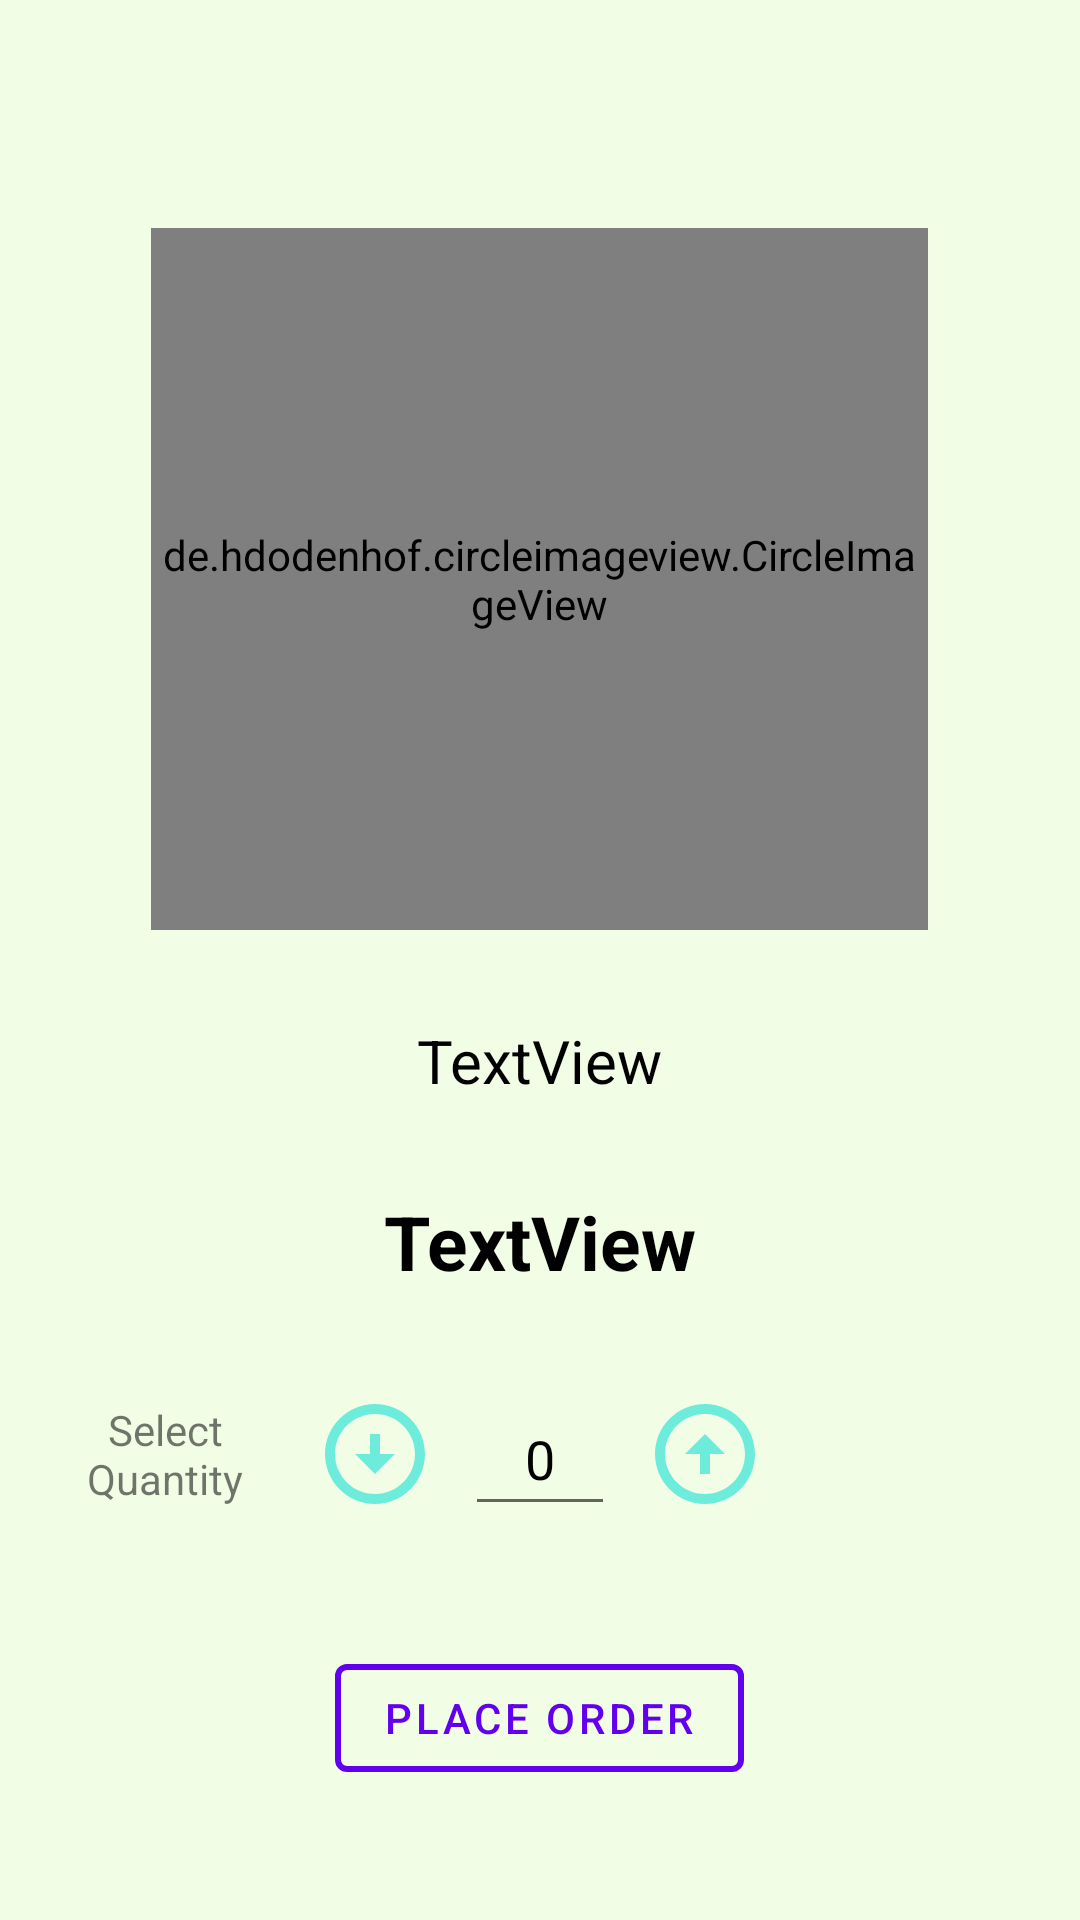

Named icons in this screenshot (1080*1920) and their bounding boxes, [x1, y1, x2, y2]:
arrow circle down: [325, 1404, 425, 1504]
arrow circle up: [655, 1404, 755, 1504]
